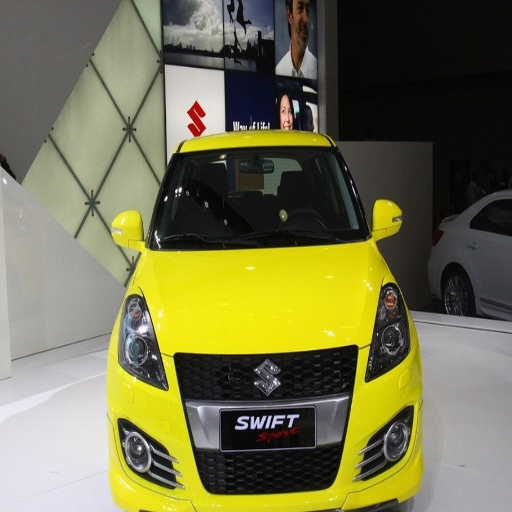front_bumper: (113, 344, 420, 511)
front_right_light: (118, 294, 169, 390)
hood: (139, 241, 376, 351)
